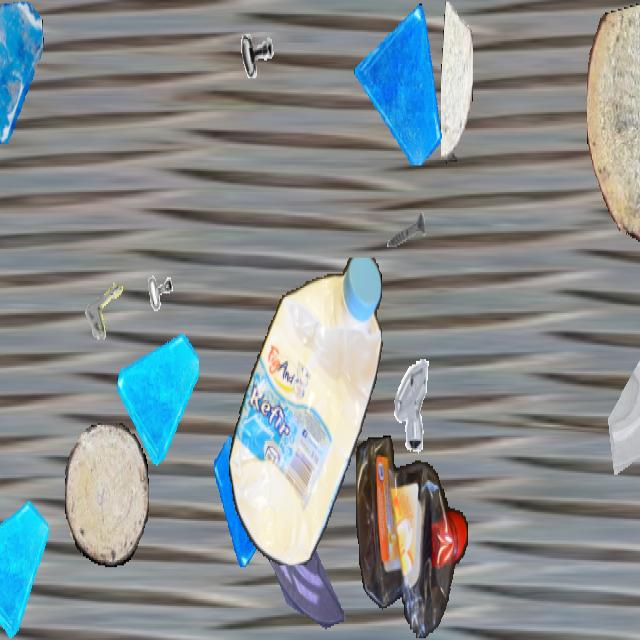glass: (354, 2, 446, 165), (261, 489, 345, 638), (117, 320, 199, 466), (214, 432, 290, 567), (0, 492, 49, 638), (0, 2, 45, 144), (604, 309, 640, 473)
metal: (81, 251, 141, 357), (380, 351, 438, 454), (135, 268, 185, 358), (385, 192, 427, 267), (237, 16, 277, 87)
plastic: (228, 257, 384, 564), (356, 436, 468, 638)
wood: (587, 2, 640, 247), (65, 423, 149, 565), (441, 2, 473, 162)
